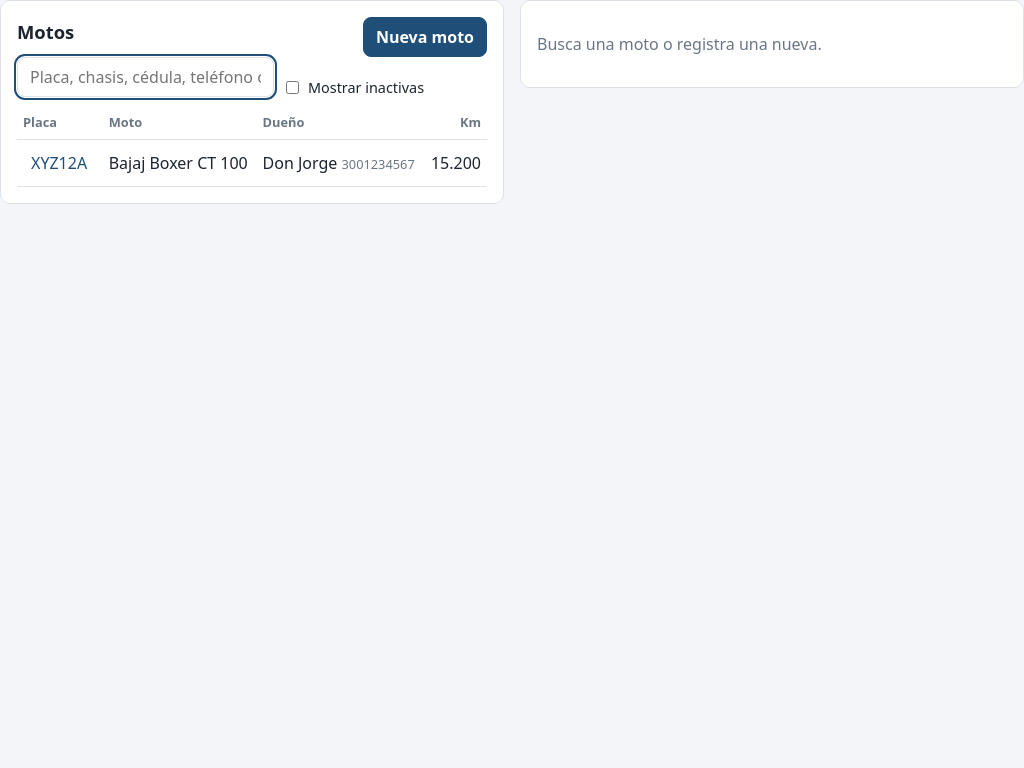
Test: pantalla Motos › la ficha muestra el dueño, los anteriores y las lecturas
Click the button "XYZ12A" at (59, 163), box [23,148,95,178]
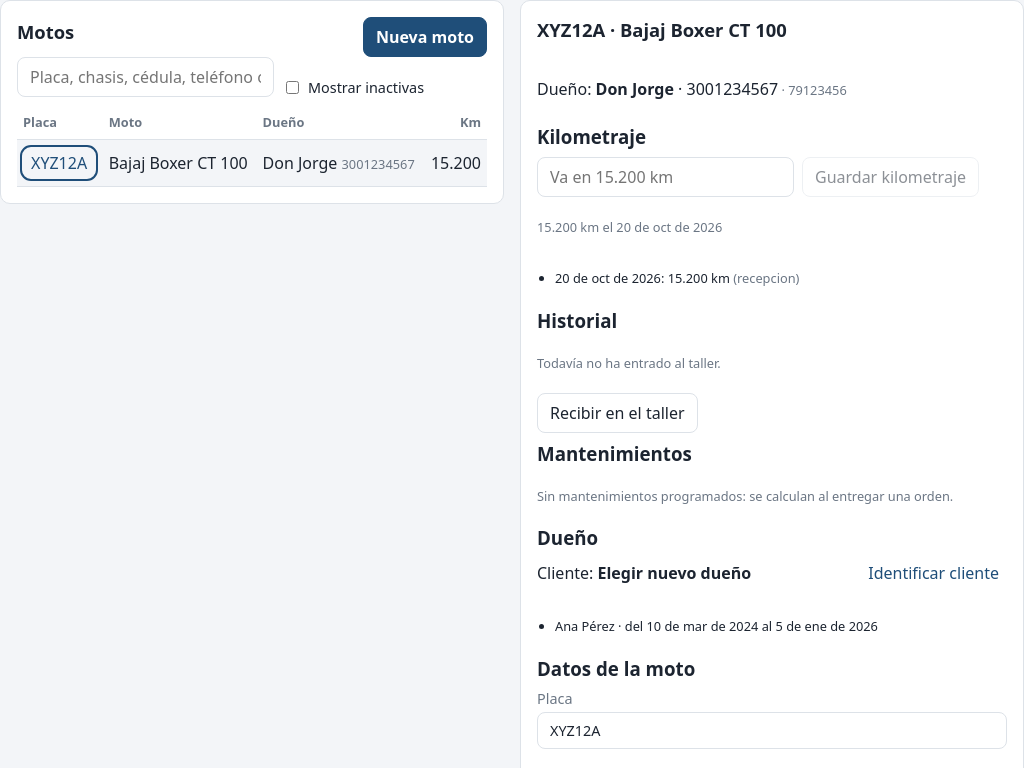
Result: the heading "XYZ12A · Bajaj Boxer CT 100" is shown at [537,17,787,42]
Result: the text "Dueño: Don Jorge · 3001234567 · 79123456" is shown at [537,78,847,100]
Result: the list item "Ana Pérez · del 10 de mar de 2024 al 5 de ene de 2026" is shown at [555,617,878,635]
